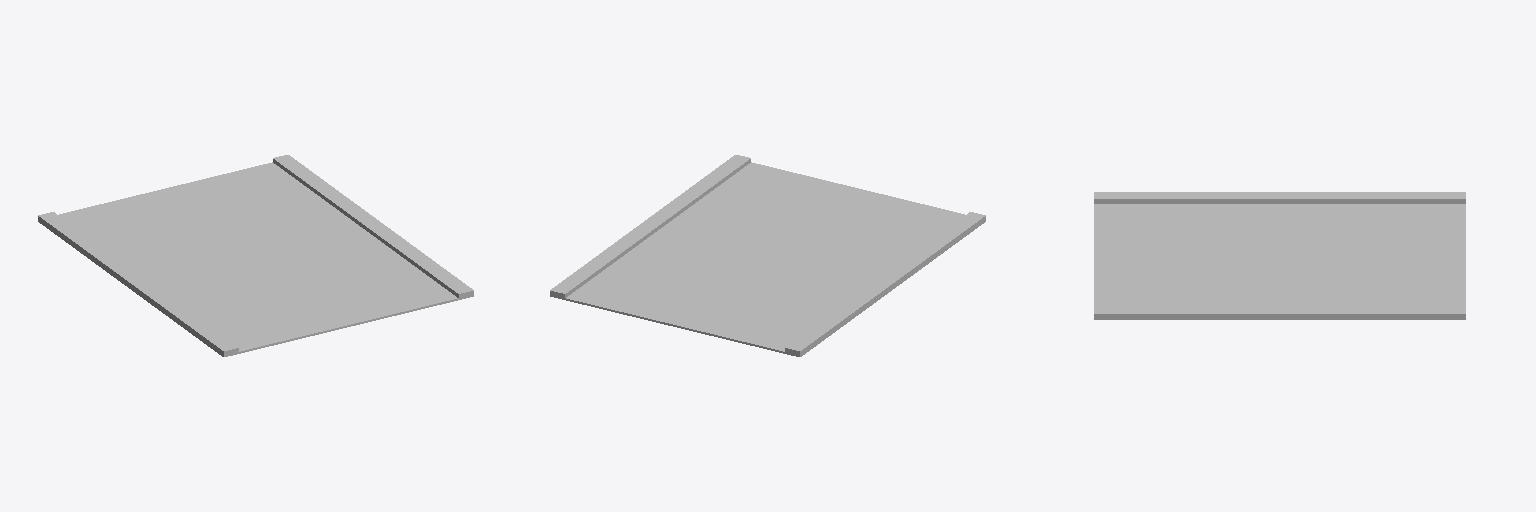
File: wide_road_map.obj
The picture shows the model from 3 angles: view 1: azimuth 30°, elevation 25°; view 2: azimuth 150°, elevation 25°; view 3: azimuth 270°, elevation 25°; orthographic projection.
Visible parts, largest first — view 1: group2_pPlane22; view 2: group2_pPlane22; view 3: group2_pPlane22.
Part boxes in pixels (bbox=[...]): group2_pPlane22: bbox=[38, 155, 473, 356]; group2_pPlane22: bbox=[550, 155, 985, 356]; group2_pPlane22: bbox=[1094, 192, 1465, 319].
Size of the model in its own units: 64 by 1.5 by 82.29.